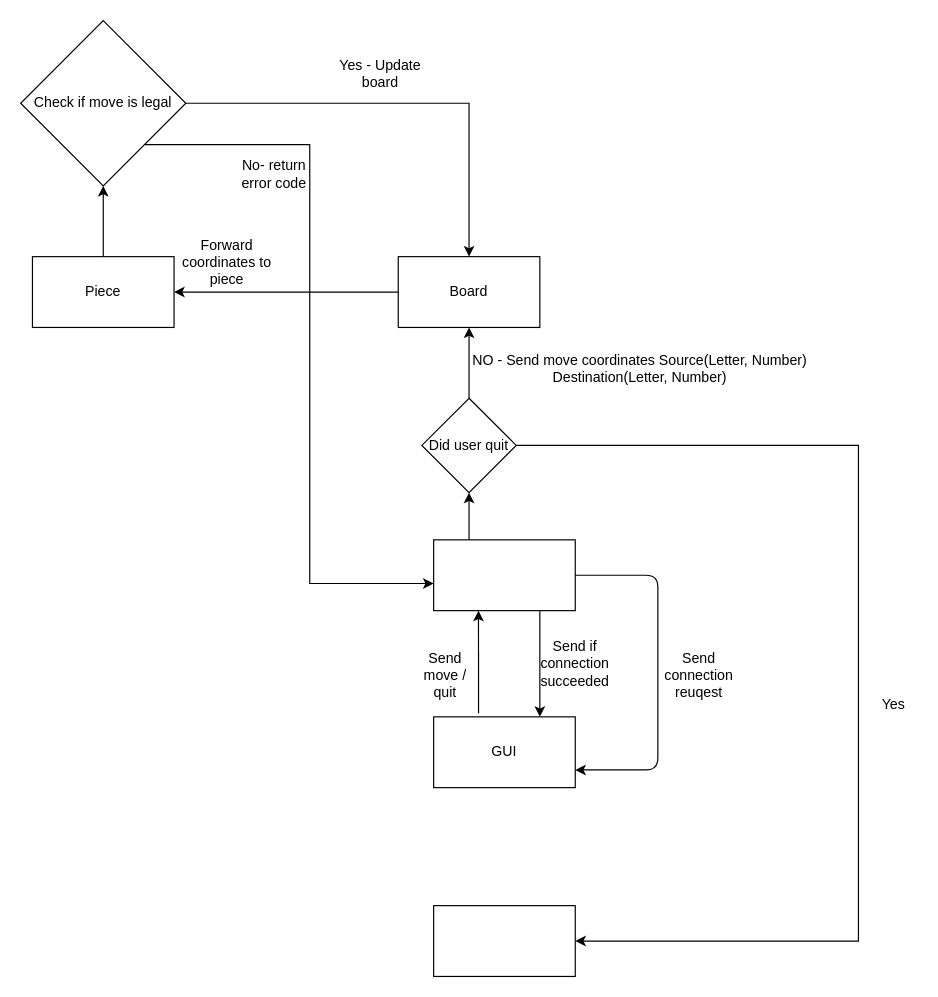
This 938x997 diagram has some shape labels left out. The shapes that lost their labels are listed below. From the top down, each one's centre as x and y in pixels, then its label:
(503,575): Main
(503,940): End
